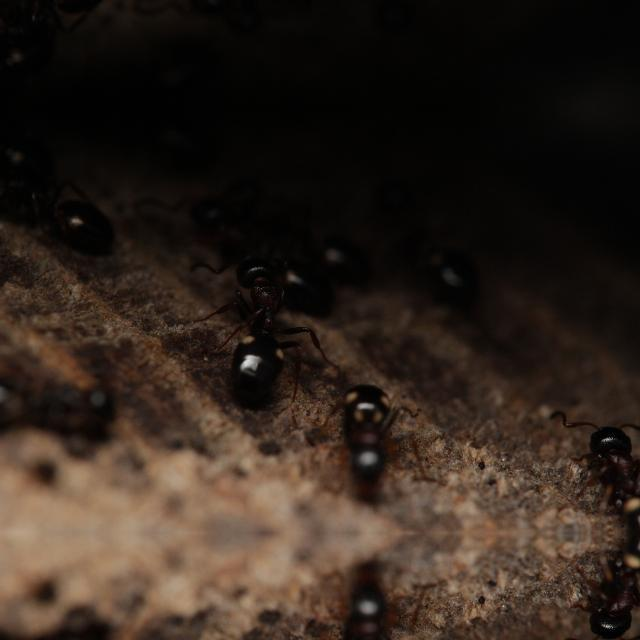Dolichoderus: (185, 233, 345, 422), (0, 146, 140, 282), (222, 162, 356, 282), (319, 366, 435, 494), (548, 402, 638, 530), (548, 534, 638, 640), (0, 0, 140, 64), (319, 570, 435, 640), (410, 206, 476, 320), (220, 0, 356, 50)
